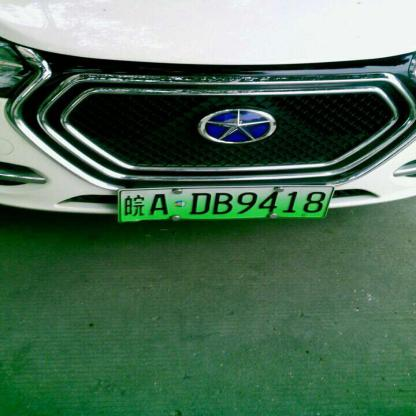lp: (120, 187, 332, 222)
